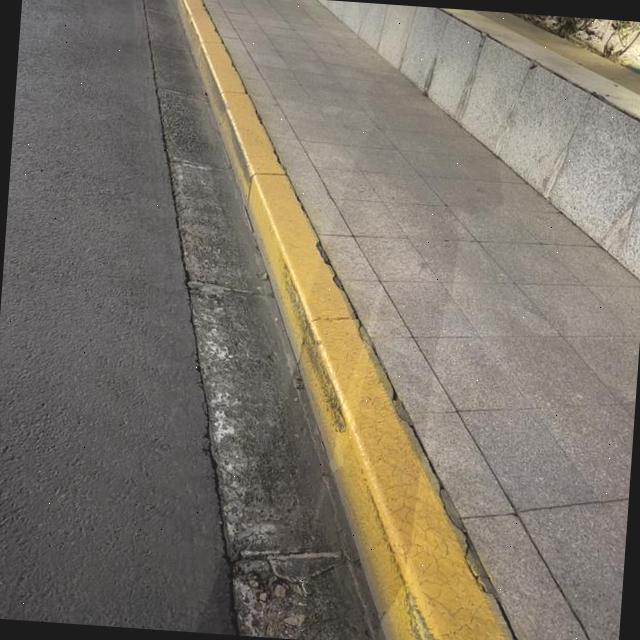curb: (176, 0, 510, 640)
